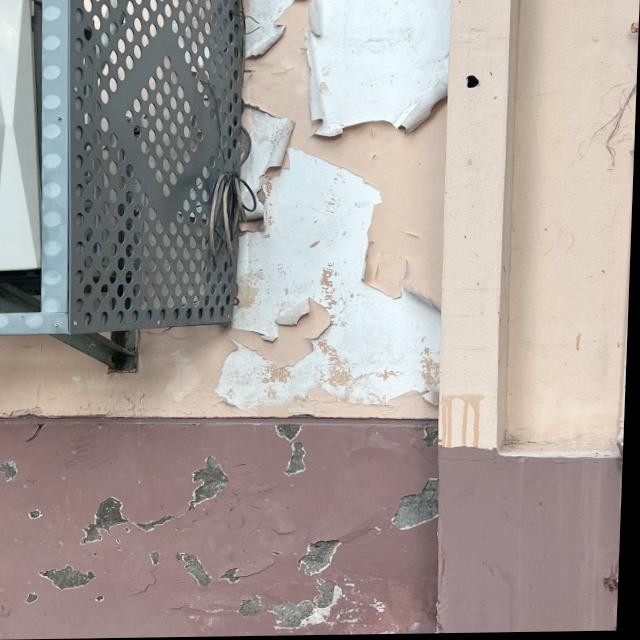spalling: (299, 3, 478, 139), (72, 458, 239, 546), (234, 578, 349, 624), (383, 475, 446, 540), (35, 563, 103, 590), (275, 425, 310, 474), (299, 538, 339, 576), (0, 463, 16, 487)
